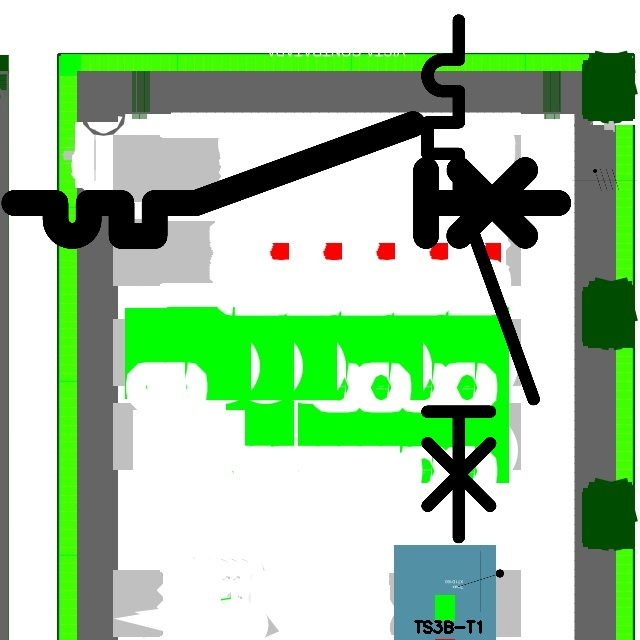interruptor_termomagnetico: (0, 110, 572, 250), (414, 7, 547, 550)
